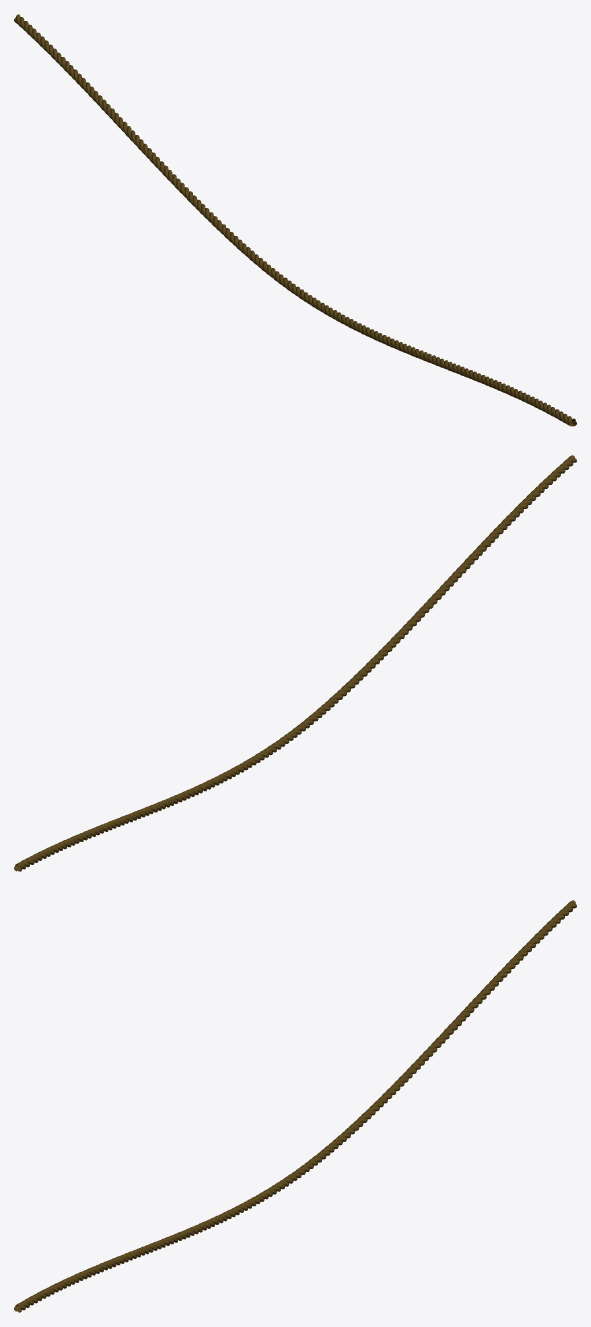
The model's file is Corda.fbx.
The picture shows the model from 3 angles, top to bottom: view 1: azimuth 30°, elevation 25°; view 2: azimuth 150°, elevation 25°; view 3: azimuth 330°, elevation 25°; orthographic projection.
Parts seen in each view (by area): view 1: Circle.003; view 2: Circle.003; view 3: Circle.003.
Boxes of the visible parts, x1=… form: Circle.003: x1=14, y1=14, x2=576, y2=426; Circle.003: x1=14, y1=455, x2=576, y2=871; Circle.003: x1=14, y1=900, x2=576, y2=1312.
Size of the model in its own units: 7.21 by 68.47 by 879.
